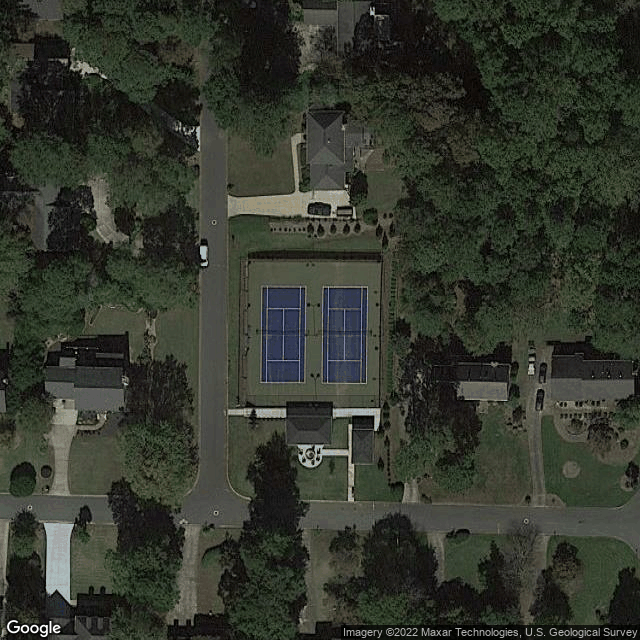Court: (258, 284, 308, 384), (321, 285, 370, 386)
